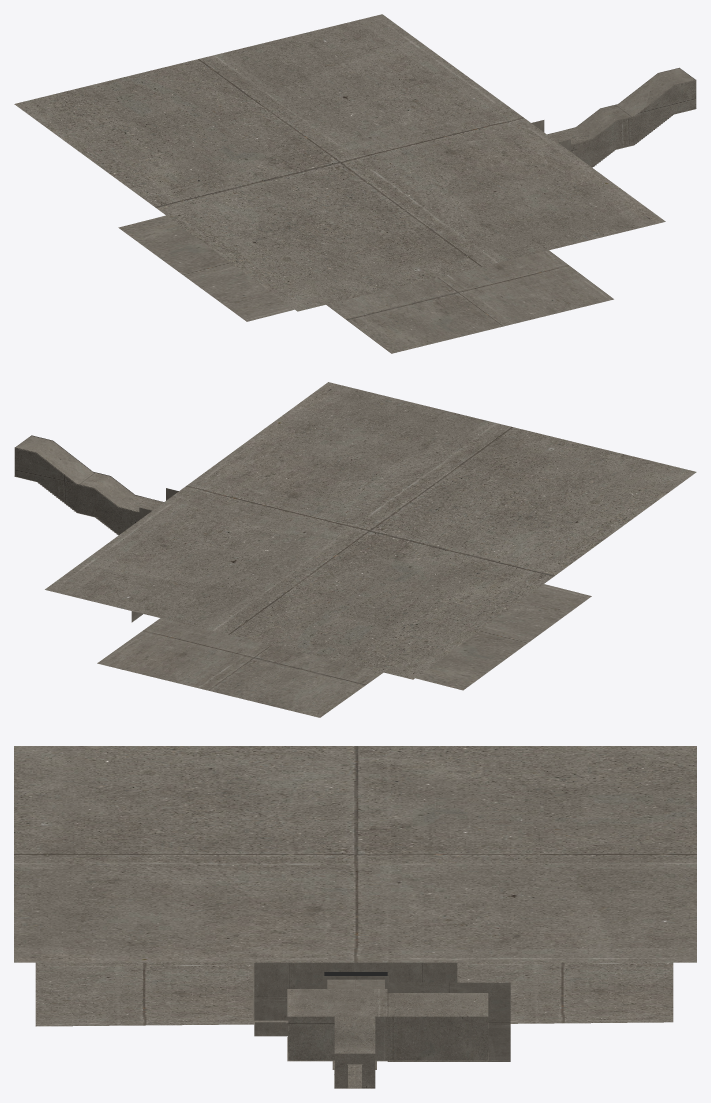
The model's file is 3drop_gallery_v85.glb.
The picture shows the model from 3 angles, top to bottom: view 1: azimuth 30°, elevation 25°; view 2: azimuth 150°, elevation 25°; view 3: azimuth 270°, elevation 25°; orthographic projection. The views are drawn at different scales.
Visible parts, largest first — view 1: frameConcreteExternalTop, sideLeftPlateformConcrete_grndPhys, backPlateformConcrete_grndPhys, entranceBackWall, entranceBackCeiling; view 2: frameConcreteExternalTop, sideRightPlateformConcrete_grndPhys, backPlateformConcrete_grndPhys, entranceBackWall, entranceBackCeiling; view 3: frameConcreteExternalTop, sideLeftPlateformConcrete_grndPhys, sideRightPlateformConcrete_grndPhys, entranceBackWall, demoZoneSurroundingPlanes, entranceBackCeiling, entranceLobbyConcrete, entranceBackStairs_grndPhys, frameConcreteExternal.
Part boxes in pixels (x1,y1,x2,y2): frameConcreteExternalTop: [14, 14, 665, 311]; sideLeftPlateformConcrete_grndPhys: [326, 250, 613, 353]; backPlateformConcrete_grndPhys: [118, 215, 294, 321]; entranceBackWall: [547, 67, 696, 167]; entranceBackCeiling: [547, 68, 695, 144]; frameConcreteExternalTop: [45, 382, 696, 679]; sideRightPlateformConcrete_grndPhys: [97, 618, 383, 717]; backPlateformConcrete_grndPhys: [415, 584, 591, 690]; entranceBackWall: [14, 435, 163, 534]; entranceBackCeiling: [15, 436, 163, 511]; frameConcreteExternalTop: [14, 746, 696, 962]; sideLeftPlateformConcrete_grndPhys: [35, 962, 254, 1026]; sideRightPlateformConcrete_grndPhys: [457, 962, 673, 1023]; entranceBackWall: [288, 1016, 488, 1088]; demoZoneSurroundingPlanes: [254, 962, 510, 1061]; entranceBackCeiling: [287, 989, 488, 1053]; entranceLobbyConcrete: [323, 976, 388, 988]; entranceBackStairs_grndPhys: [287, 1037, 488, 1088]; frameConcreteExternal: [324, 962, 387, 971].
Size of the model in its own units: 271 by 44.63 by 250.
Materials: 4 (4 with a texture image).
